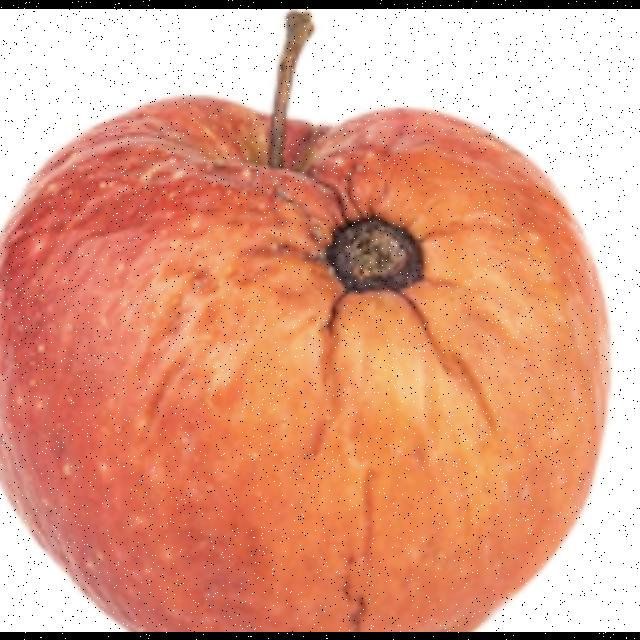Apel Tidak Segar: (0, 14, 626, 630)
